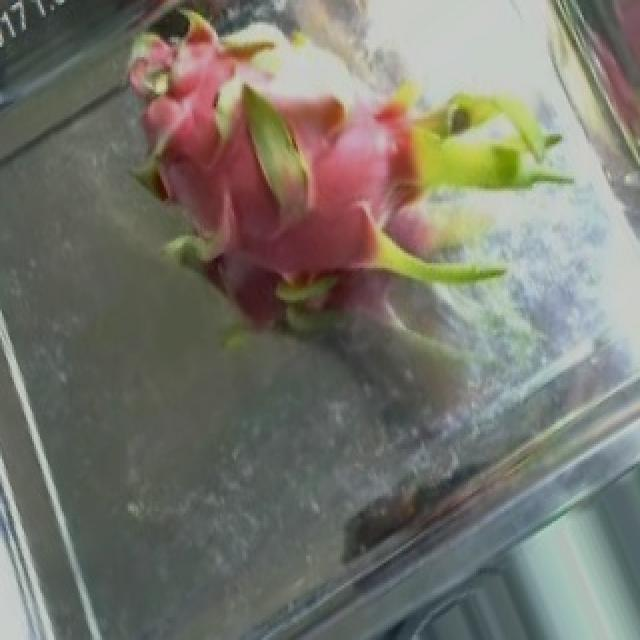fruit: (174, 0, 602, 464), (30, 0, 412, 392)
